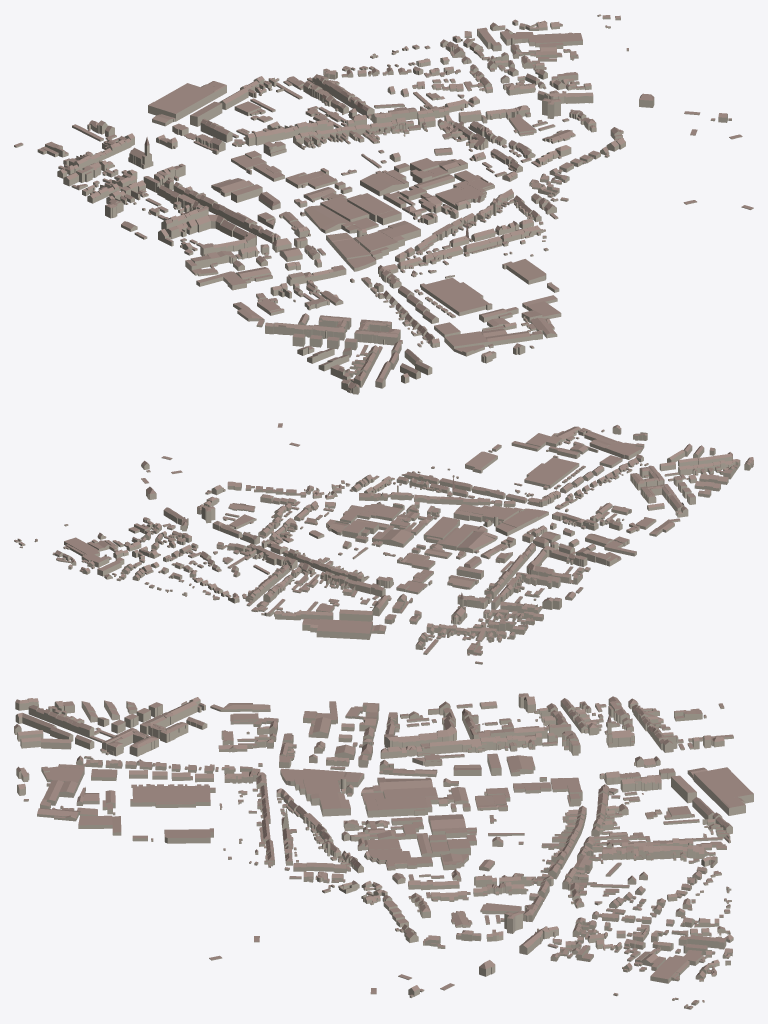
3 renders of one model, top to bottom at view 1: azimuth 30°, elevation 25°; view 2: azimuth 150°, elevation 25°; view 3: azimuth 270°, elevation 25°, orthographic. The views are drawn at different scales.
Visible parts, largest first — view 1: LoD2_32_322_5671_1_NW; view 2: LoD2_32_322_5671_1_NW; view 3: LoD2_32_322_5671_1_NW.
Part boxes in pixels (x1=…): LoD2_32_322_5671_1_NW: x1=14, y1=14, x2=753, y2=394; LoD2_32_322_5671_1_NW: x1=14, y1=423, x2=753, y2=664; LoD2_32_322_5671_1_NW: x1=14, y1=693, x2=753, y2=1009.
Size of the model in its own units: 1005 by 55.55 by 1038.
